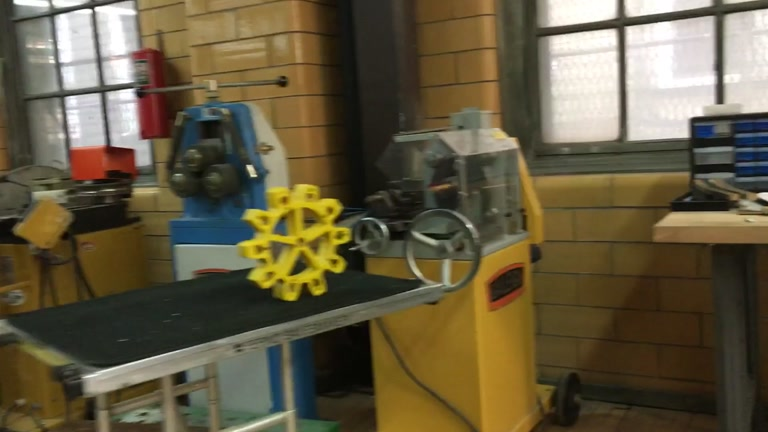gear: (236, 184, 349, 303)
